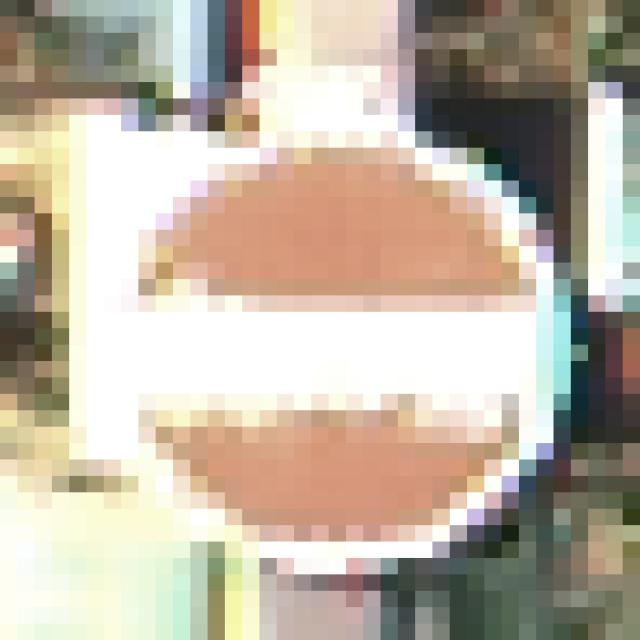No Entry: (88, 100, 555, 543)
